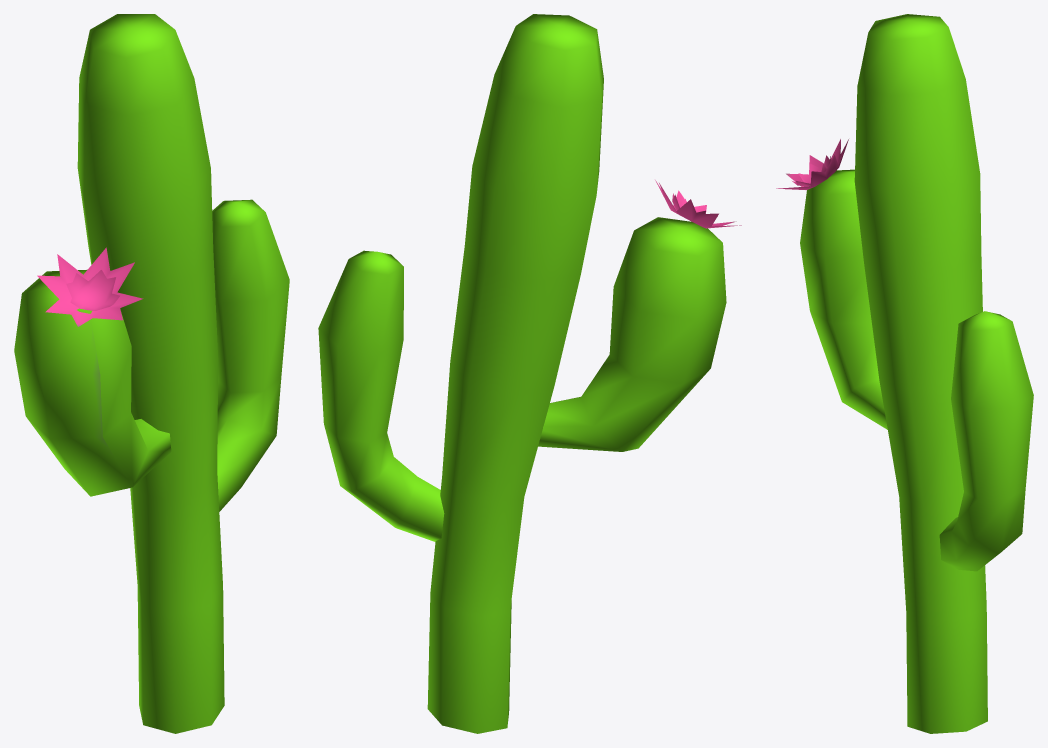
Rendered from Large_Cac.fbx.
3 views of the same model, side by side, from view 1: azimuth 30°, elevation 25°; view 2: azimuth 150°, elevation 25°; view 3: azimuth 270°, elevation 25° (orthographic). The views are drawn at different scales.
Visible parts, largest first — view 1: polySurface3; view 2: polySurface3; view 3: polySurface3.
Boxes of the visible parts, left/top/right/bottom form: polySurface3: left=14, top=14, right=289, bottom=733; polySurface3: left=318, top=14, right=741, bottom=733; polySurface3: left=776, top=14, right=1033, bottom=733.
Bounding box in the file's own units: 6.15 × 12.73 × 4.49.
Materials: 1 (1 with a texture image).
